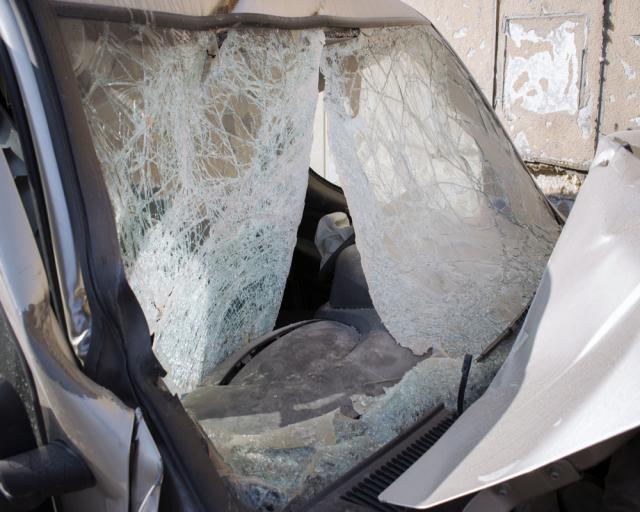dent: (21, 289, 105, 400), (65, 274, 90, 363)
glass shatter: (60, 16, 561, 512)
